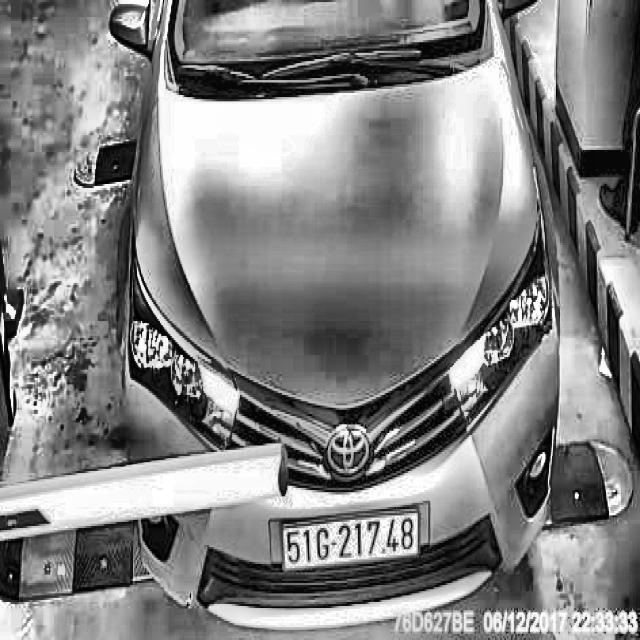plate: (278, 502, 424, 582)
